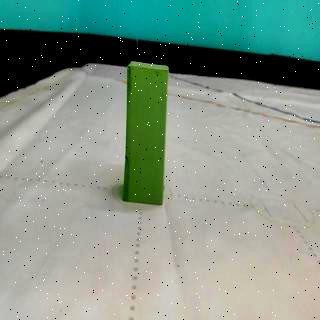greenbox: (122, 58, 168, 208)
